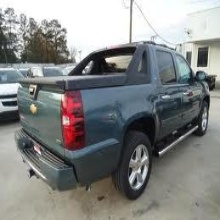no damage: (17, 42, 212, 198)
